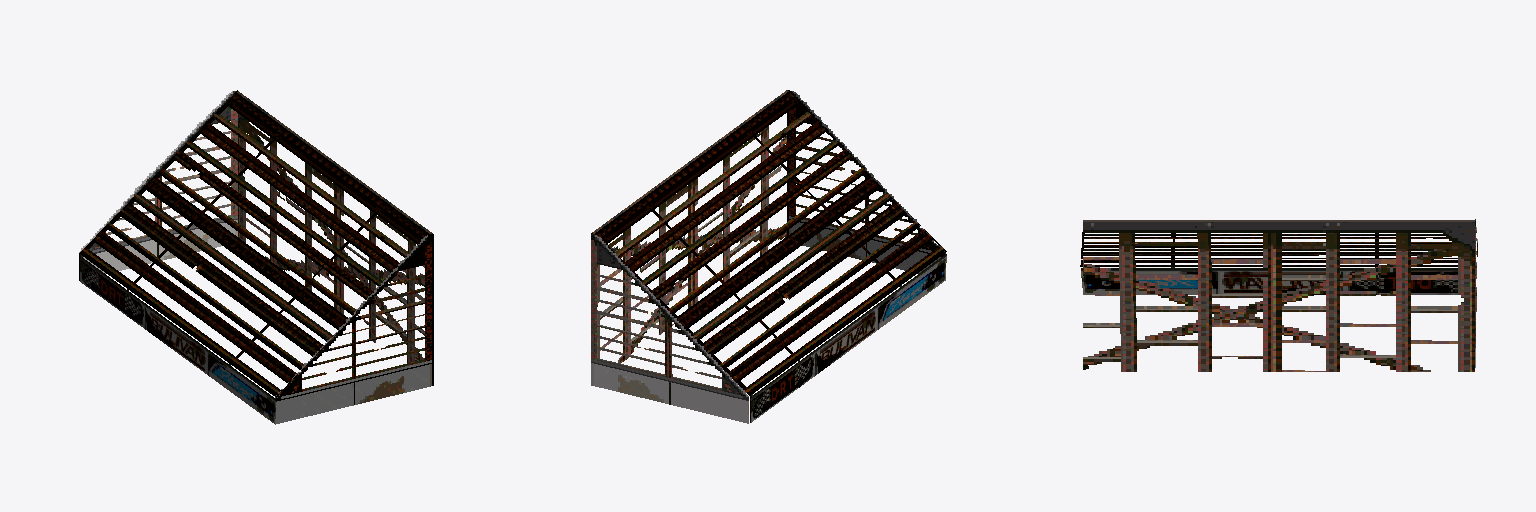
3 views of the same model, side by side, from view 1: azimuth 30°, elevation 25°; view 2: azimuth 150°, elevation 25°; view 3: azimuth 270°, elevation 25° (orthographic).
Bounding box in the file's own units: 132 × 123 × 288.
1 materials, 1 textured.